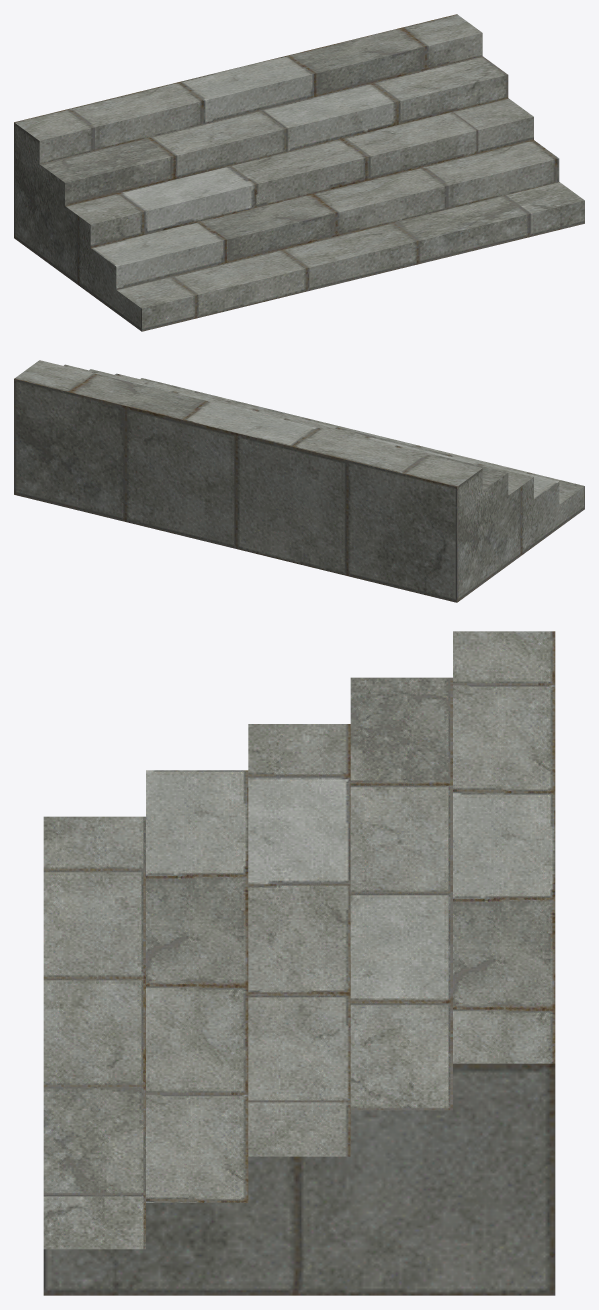
File: steps_1x2.fbx
3 views of the same model, one above another, from view 1: azimuth 30°, elevation 25°; view 2: azimuth 150°, elevation 25°; view 3: azimuth 270°, elevation 25° (orthographic). The views are drawn at different scales.
Visible parts, largest first — view 1: steps_1x2; view 2: steps_1x2; view 3: steps_1x2.
Part boxes in pixels (box(x1,y1,x2,y2)): steps_1x2: box(14, 14, 584, 331); steps_1x2: box(14, 360, 584, 602); steps_1x2: box(43, 631, 555, 1295).
Size of the model in its own units: 200 by 50 by 100.
